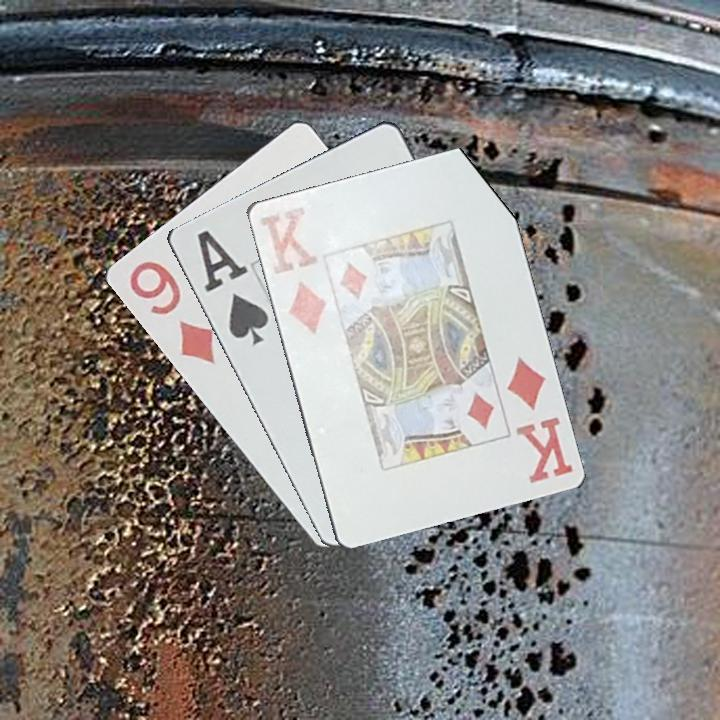9d: (125, 255, 219, 368)
As: (192, 226, 271, 350)
Kd: (255, 202, 329, 336), (503, 352, 575, 486)
